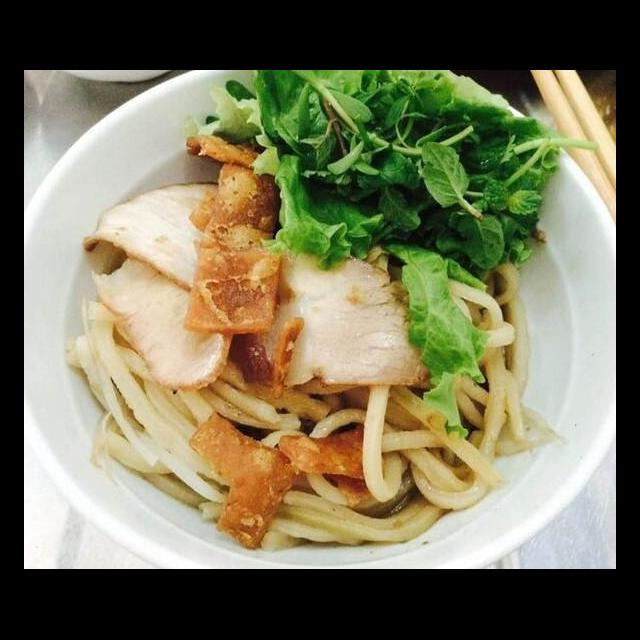banh da: (186, 408, 307, 554), (181, 230, 286, 336), (276, 421, 391, 512), (184, 160, 285, 256), (219, 314, 307, 404), (183, 132, 287, 178)
mi: (82, 360, 535, 556), (419, 254, 564, 494), (67, 296, 205, 479)
mi quang: (27, 101, 584, 570)
thit heo: (227, 234, 436, 392), (87, 245, 235, 394), (78, 178, 239, 296)
